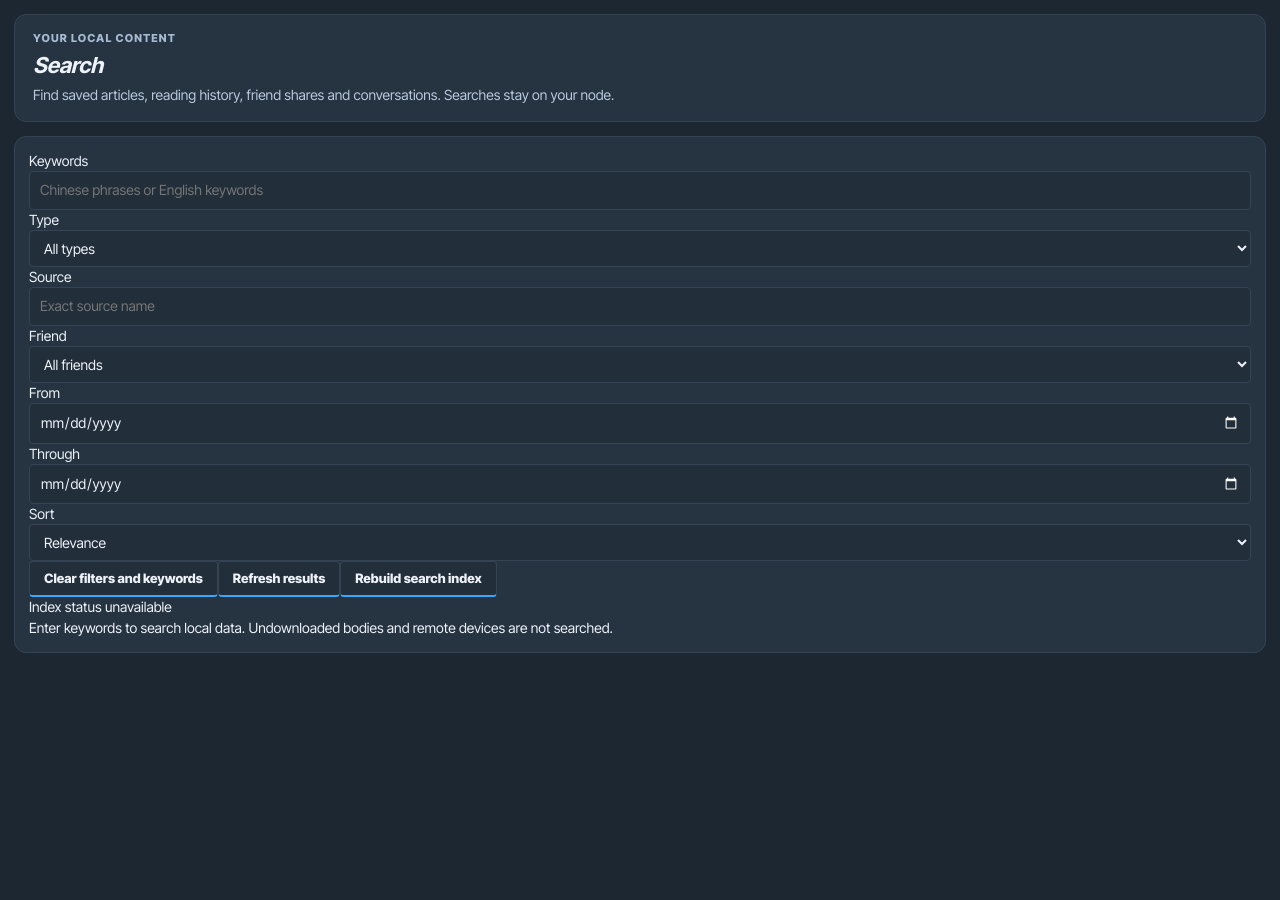
Scenario: discards late replies from older keywords
The width and height of the screenshot is (1280, 900).
Type "old" into the field named "Search keywords".
click(640, 191); type("old")  # box [29, 171, 1251, 210]
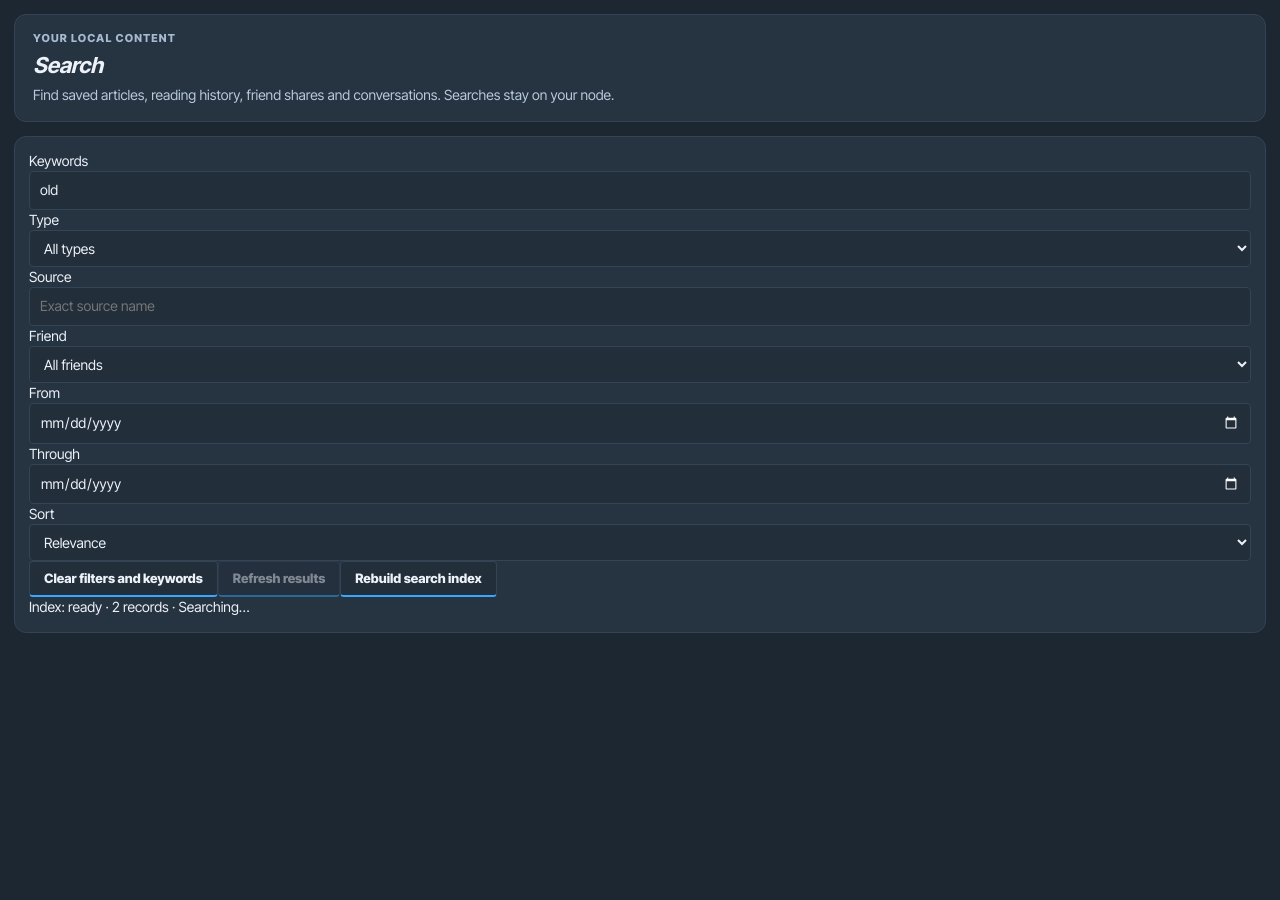
Replace the text in the field named "Search keywords" with "new" at (640, 191), box [29, 171, 1251, 210]
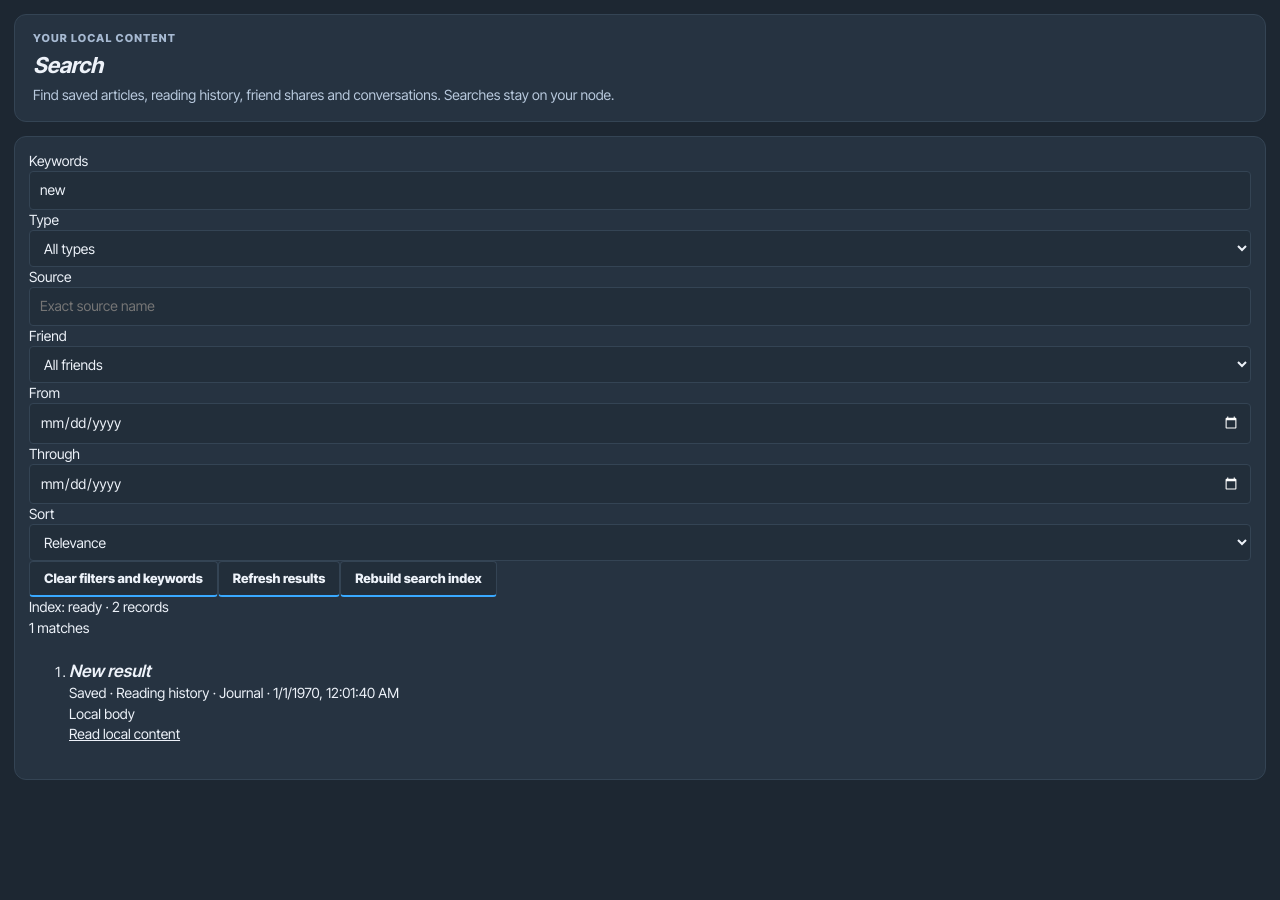
Expected: the heading "New result" is shown, [69, 661, 150, 681]
